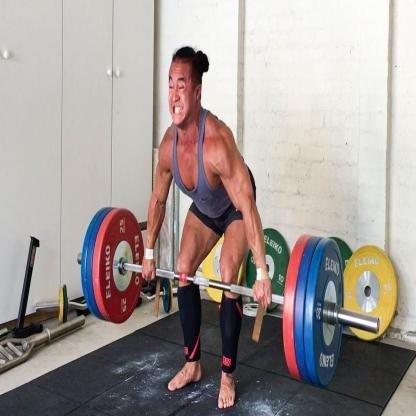Barbell: (372, 305, 388, 345)
